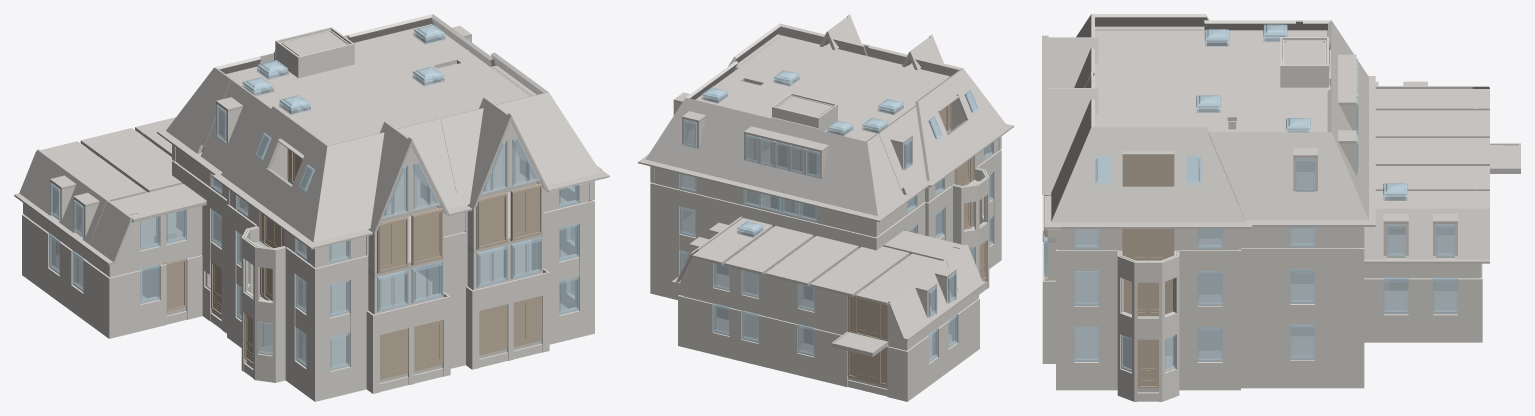
The picture shows the model from 3 angles, left to right: view 1: azimuth 30°, elevation 25°; view 2: azimuth 150°, elevation 25°; view 3: azimuth 270°, elevation 25°; orthographic projection. The views are drawn at different scales.
Visible parts, largest first — view 1: slab, wall, glazing, door; view 2: slab, wall, glazing, door; view 3: slab, wall, glazing, door.
Boxes of the visible parts, <box> form: slab: <box>14,14,609,382</box>; wall: <box>22,27,594,401</box>; glazing: <box>49,24,578,370</box>; door: <box>56,148,541,379</box>; slab: <box>638,14,1013,388</box>; wall: <box>650,81,1001,401</box>; glazing: <box>679,70,993,362</box>; door: <box>747,103,987,386</box>; slab: <box>1042,14,1520,392</box>; wall: <box>1042,37,1482,401</box>; glazing: <box>1044,24,1479,371</box>; door: <box>1044,155,1407,387</box>.
Size of the model in its own units: 23.39 by 14.78 by 23.31.
